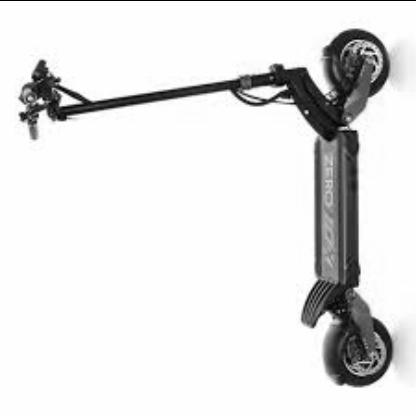bike: (299, 128, 394, 387)
